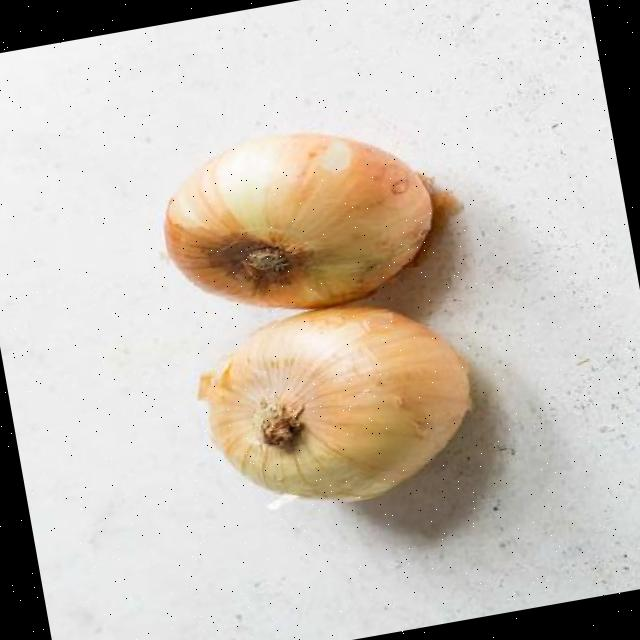Onion: (198, 305, 472, 498), (163, 130, 431, 306)
